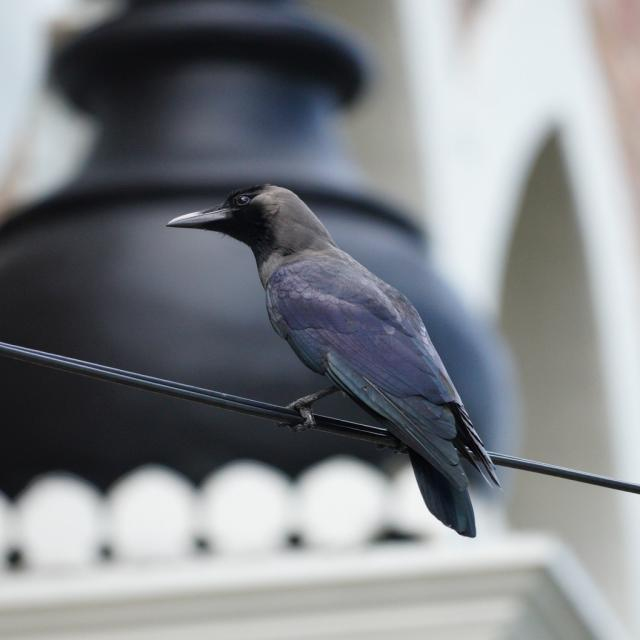bird: (154, 177, 511, 556)
